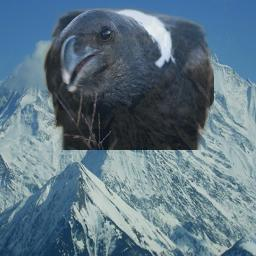Crow: (43, 7, 214, 150)
